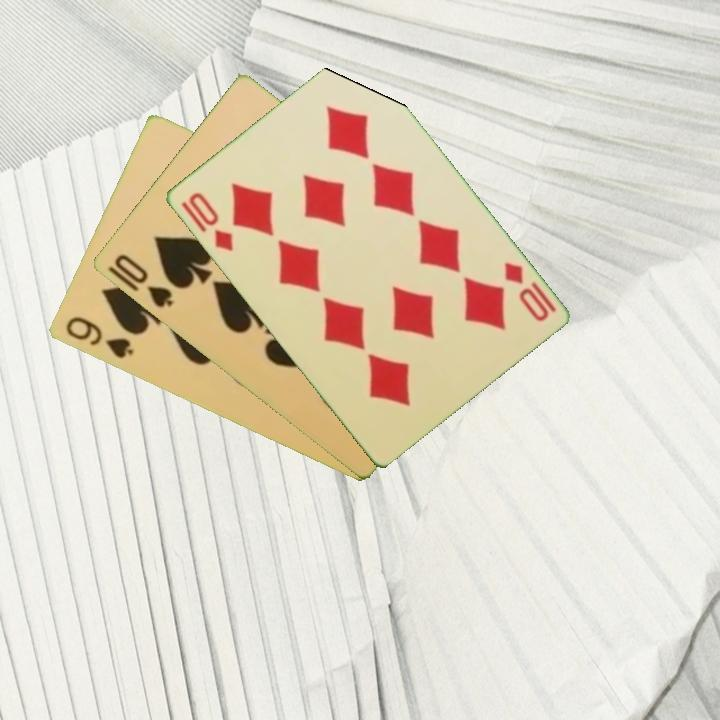10d: (500, 258, 559, 325), (184, 188, 236, 254)
10s: (110, 250, 175, 311)
9s: (61, 313, 136, 362)
